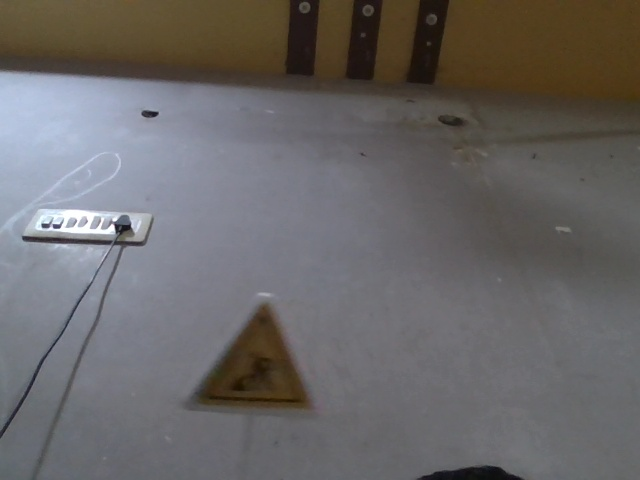workinprogress: (189, 287, 315, 423)
